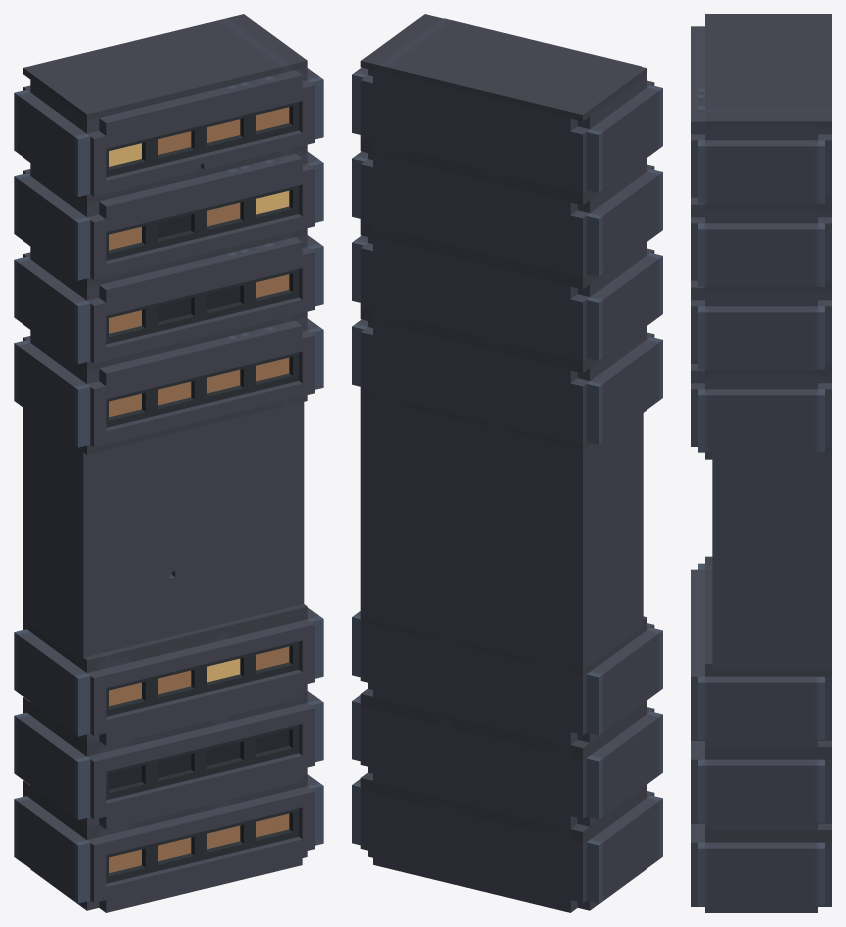
Rendered from Building-3.fbx.
3 views of the same model, side by side, from view 1: azimuth 30°, elevation 25°; view 2: azimuth 150°, elevation 25°; view 3: azimuth 270°, elevation 25° (orthographic).
Visible parts, largest first — view 1: Building_3; view 2: Building_3; view 3: Building_3.
Boxes of the visible parts, x1=… form: Building_3: x1=14, y1=14, x2=323, y2=912; Building_3: x1=352, y1=14, x2=662, y2=912; Building_3: x1=691, y1=14, x2=831, y2=912.
Bounding box in the file's own units: 400 × 1240 × 200.
Materials: 2 (2 with a texture image).
